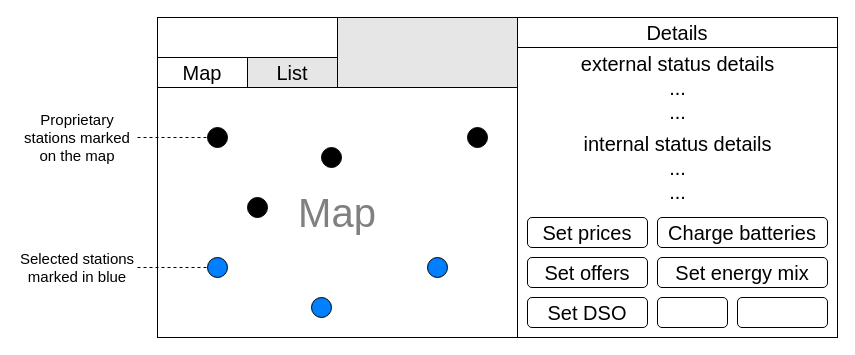
Image size: 855x355. Some labels were removed from this diagram. The centre of each missing label's shape, as x and y in pixels:
"Auto" goes at (x=692, y=312).
"DSO" goes at (x=427, y=52).
"Remove" goes at (x=782, y=312).
"Stations" goes at (x=247, y=37).
